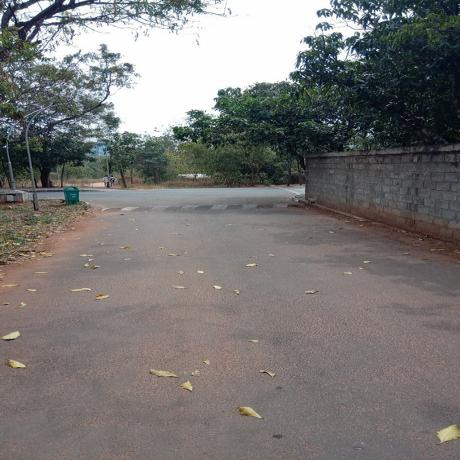Speed Bump: (98, 204, 300, 212)
